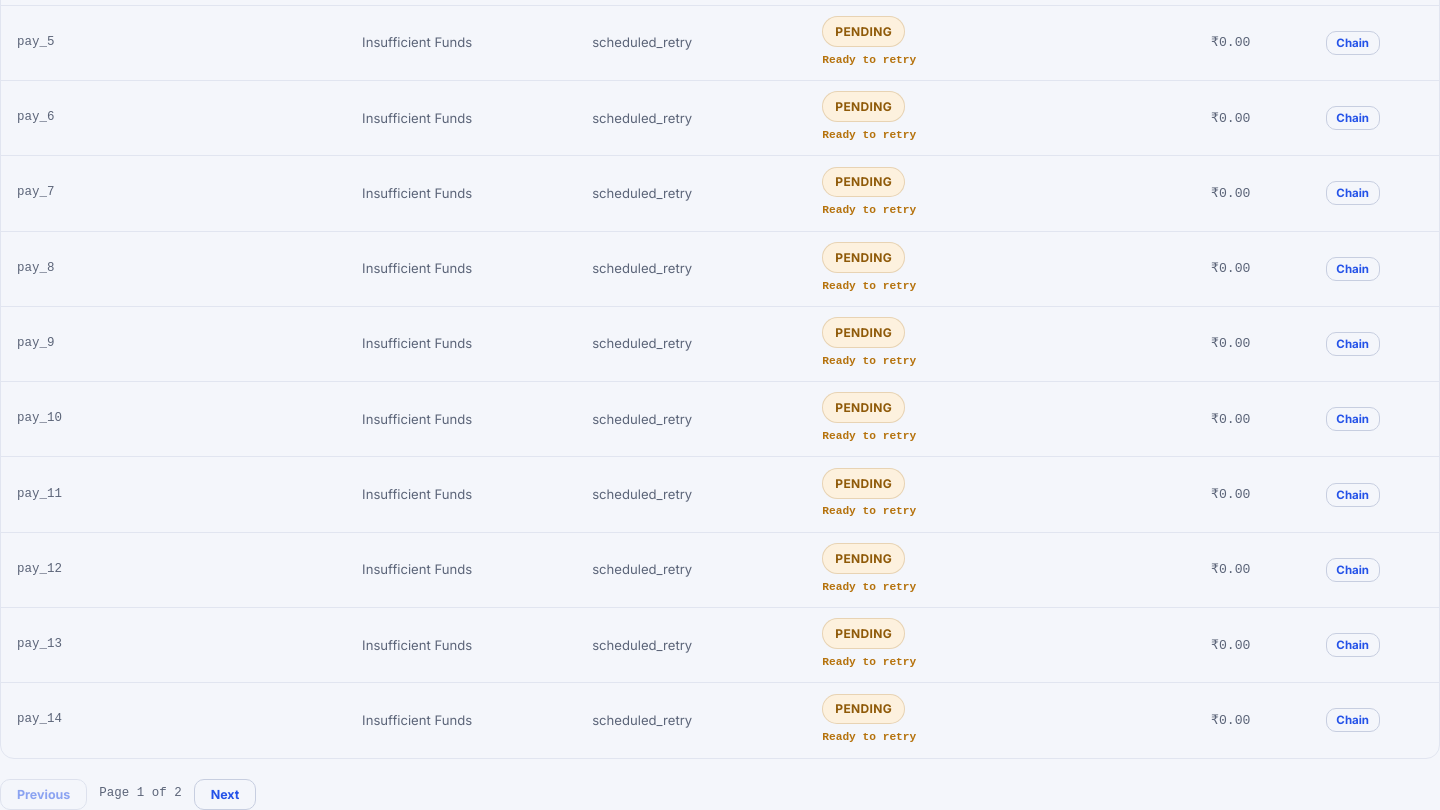
Cases › paginates beyond one page
(page scrolled)
Expected: the text "Page 1 of 2" is shown, x1=99 y1=784 x2=182 y2=804
Expected: the text "pay_19" is not shown
Click the button "Next". click: coordinates (225, 794)
box: x1=194 y1=778 x2=256 y2=809
(page scrolled)
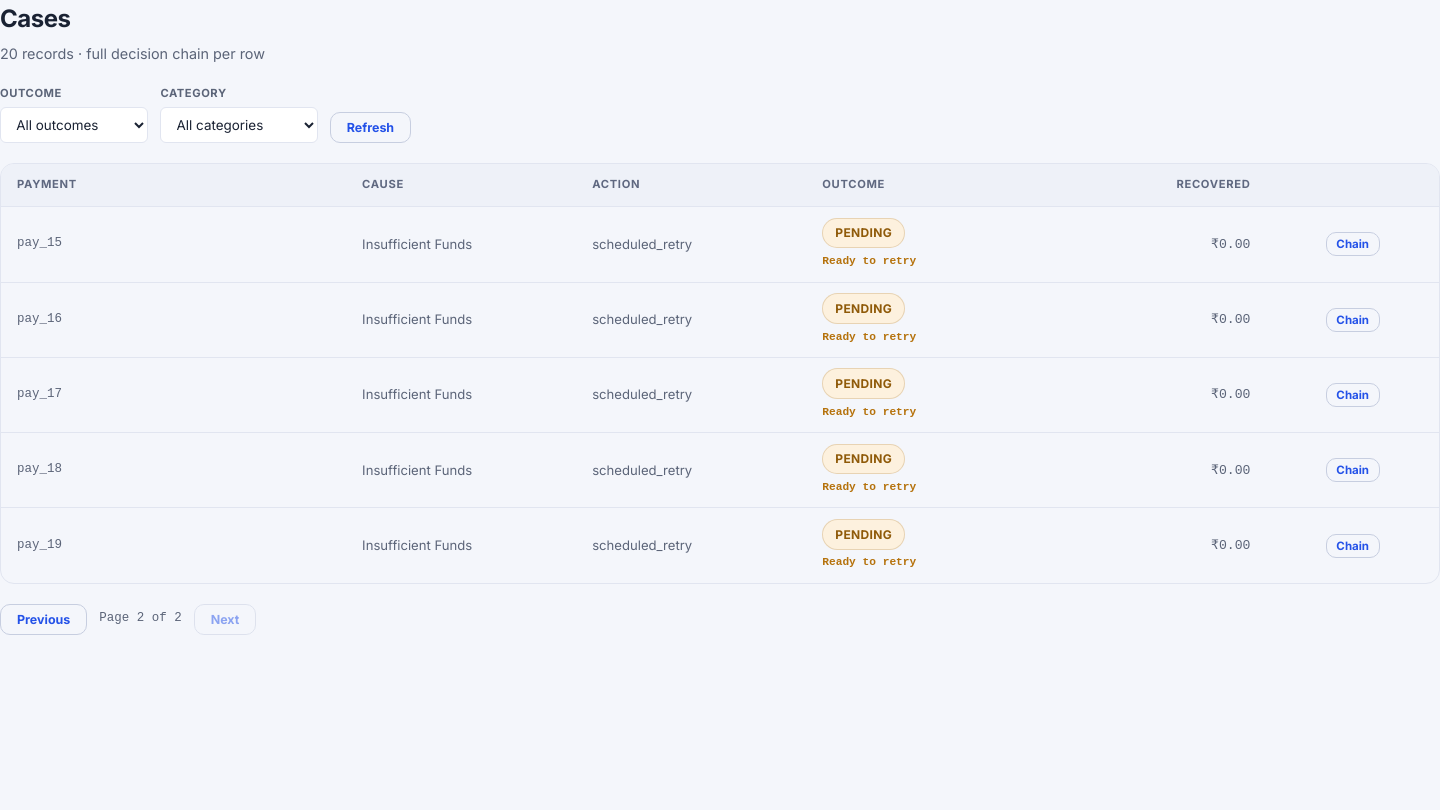
Expected: the text "pay_19" is shown, x1=1 y1=508 x2=346 y2=583
